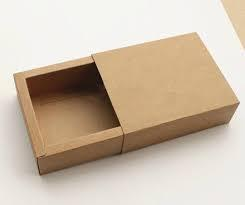box: (14, 32, 240, 176)
